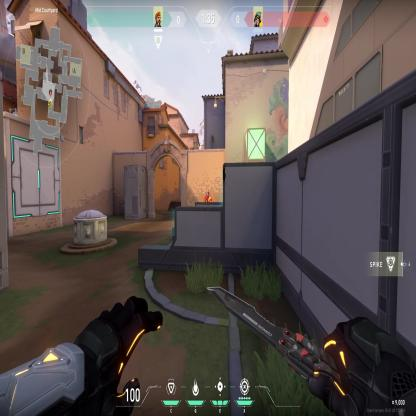enemy: (203, 188, 212, 202)
